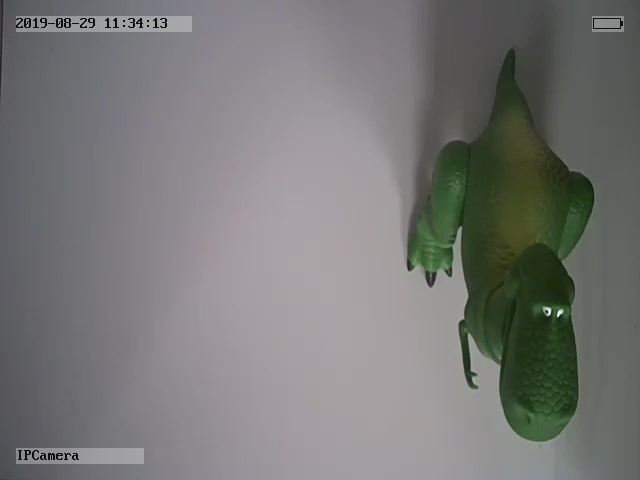rex: (404, 43, 595, 443)
